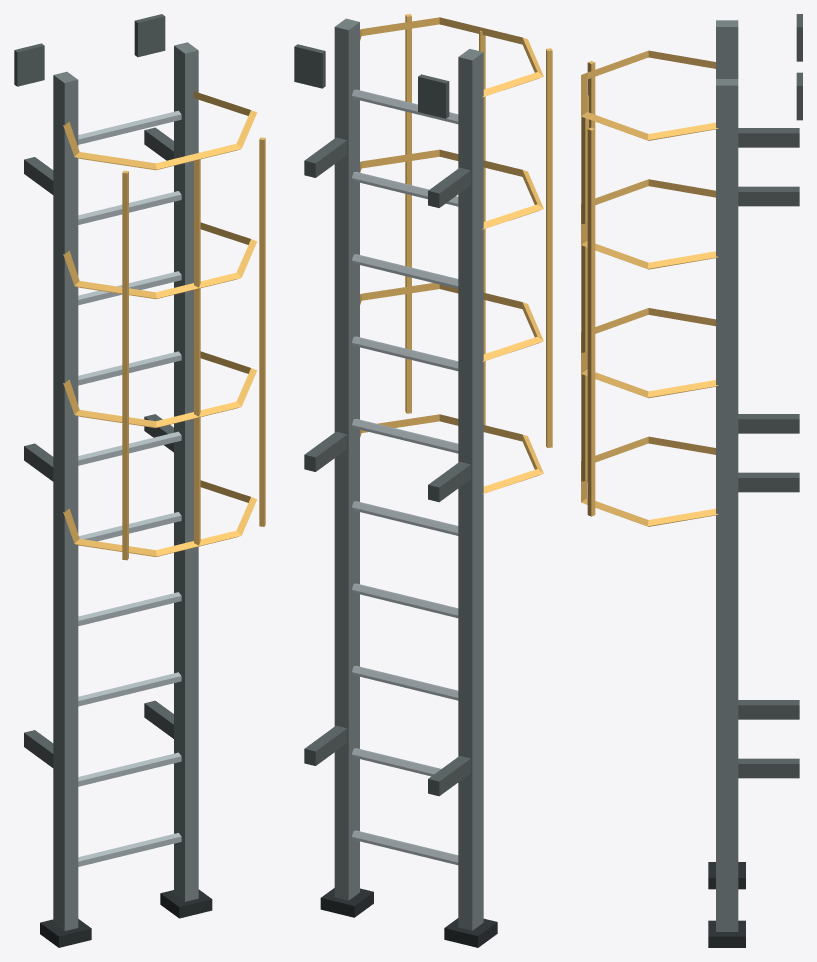
The model's file is wandleiter.glb.
The picture shows the model from 3 angles, left to right: view 1: azimuth 30°, elevation 25°; view 2: azimuth 150°, elevation 25°; view 3: azimuth 270°, elevation 25°; orthographic projection. The views are drawn at different scales.
Parts seen in each view (by area): view 1: wandleiter-m; view 2: wandleiter-m; view 3: wandleiter-m.
Boxes of the visible parts, left/top/right/bottom form: wandleiter-m: left=14, top=14, right=265, bottom=947; wandleiter-m: left=294, top=14, right=552, bottom=947; wandleiter-m: left=581, top=14, right=802, bottom=947.
Bounding box in the file's own units: 0.6677 × 3.01 × 0.7029.
